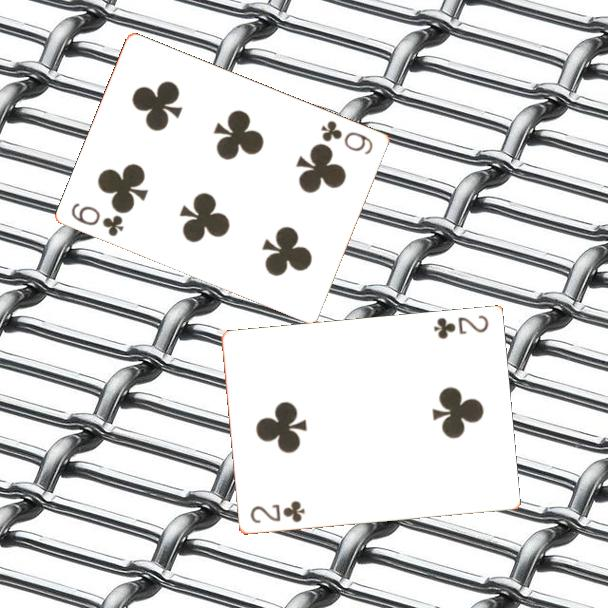c02: (430, 312, 491, 342), (247, 498, 308, 526)
c06: (68, 199, 127, 239), (318, 117, 376, 157)
